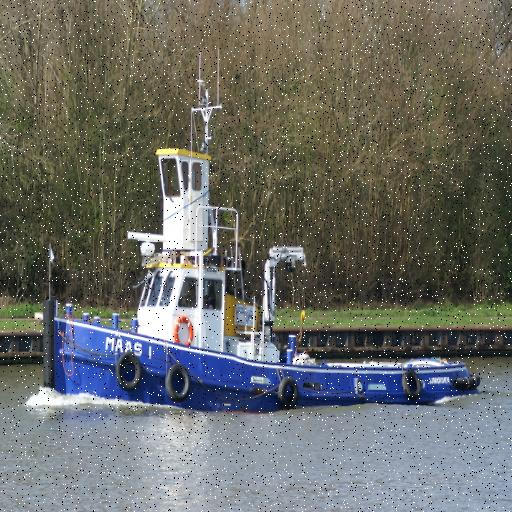tugboat: (37, 146, 485, 427)
